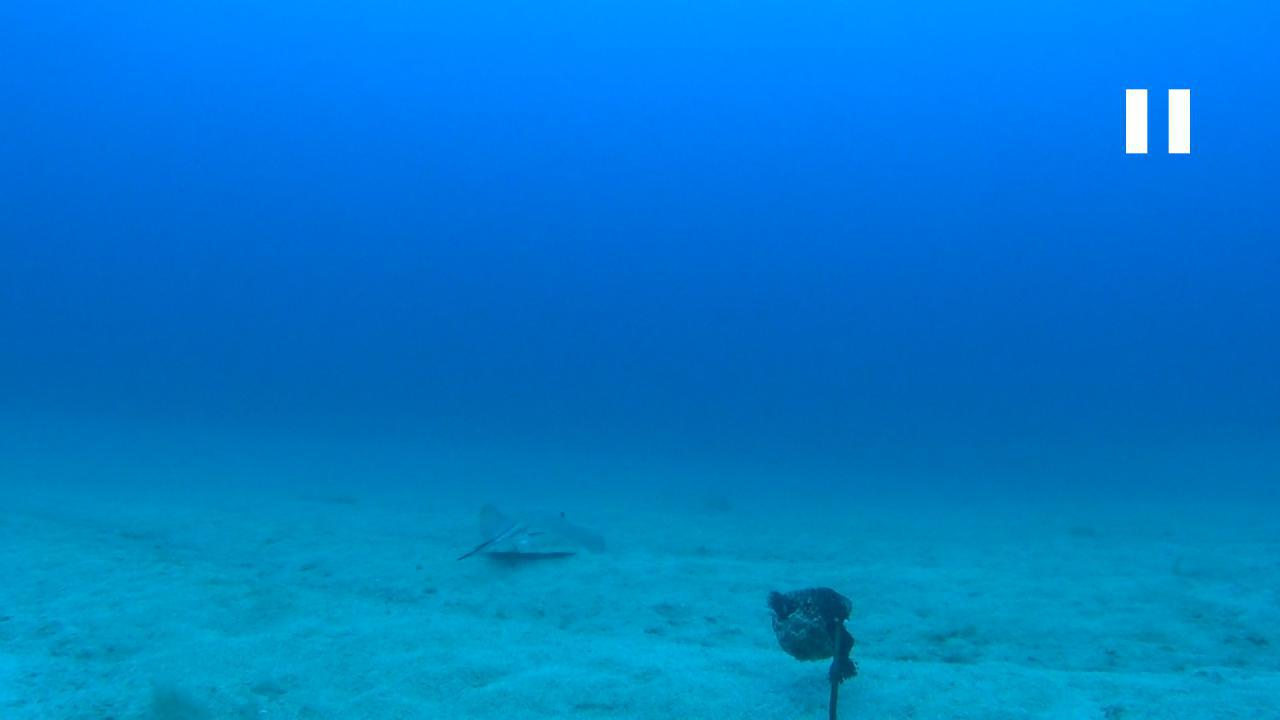dasyatis: (450, 500, 604, 562)
